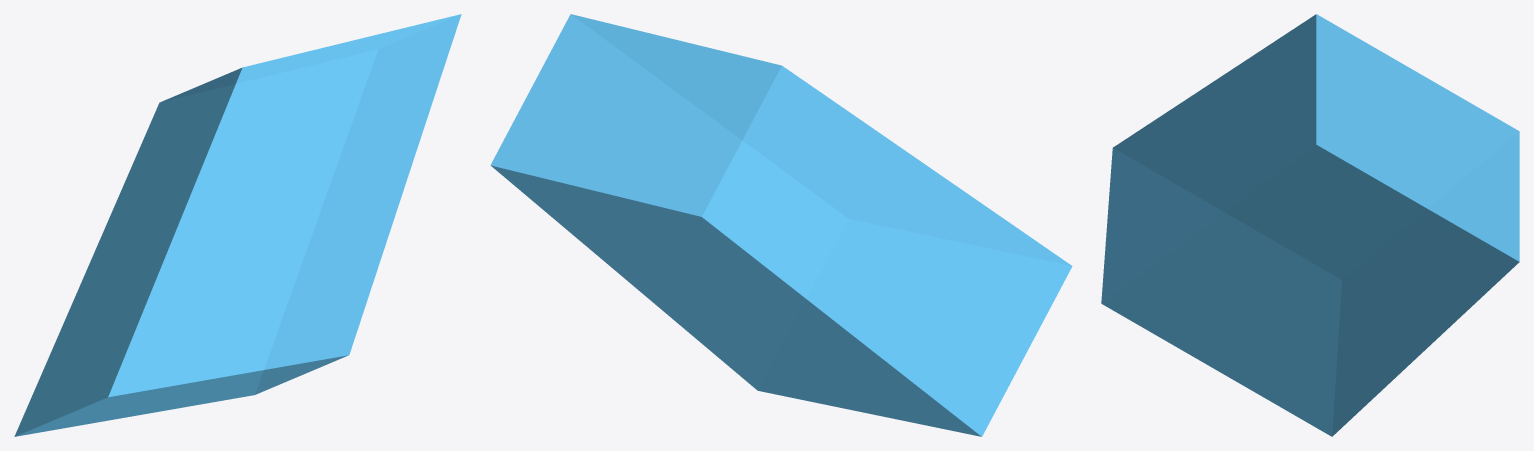
Rendered from Event_420094457_HBrechit_12.fbx.
3 views of the same model, side by side, from view 1: azimuth 30°, elevation 25°; view 2: azimuth 150°, elevation 25°; view 3: azimuth 270°, elevation 25° (orthographic). The views are drawn at different scales.
Parts seen in each view (by area): view 1: Model; view 2: Model; view 3: Model.
Part boxes in pixels (left/top/right/bottom): Model: left=14, top=14, right=461, bottom=436; Model: left=490, top=14, right=1072, bottom=436; Model: left=1101, top=14, right=1519, bottom=436.
Size of the model in its own units: 1.03 by 0.7573 by 0.6974.
